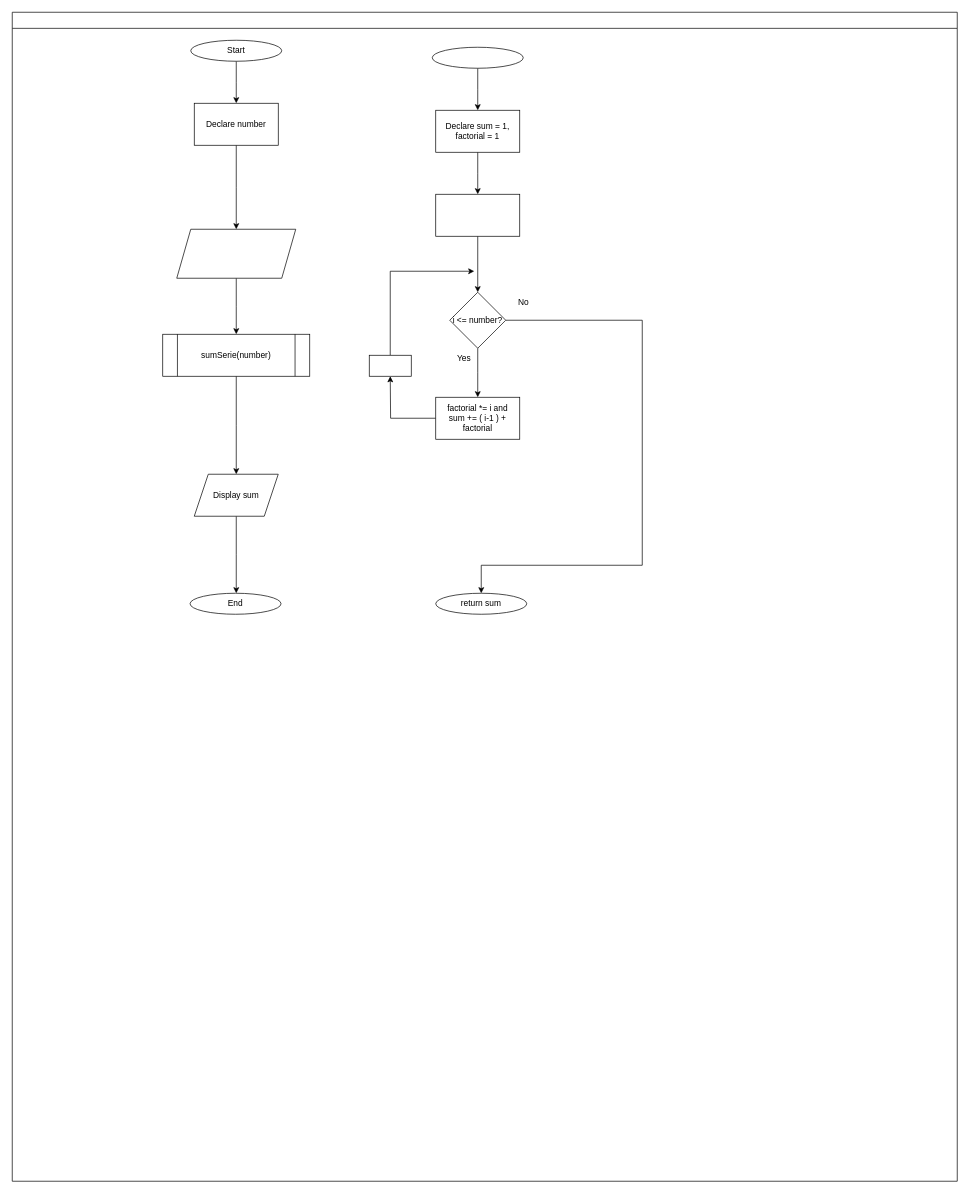
This 970x1194 diagram has some shape labels left out. The shapes that lost their labels are listed below. From the top down, each one's centre as x and y in pixels, then its label:
At [477,57]: "sumSerie()".
At [477,215]: "i = 2".
At [236,253]: "Read number".
At [390,365]: "i++".
